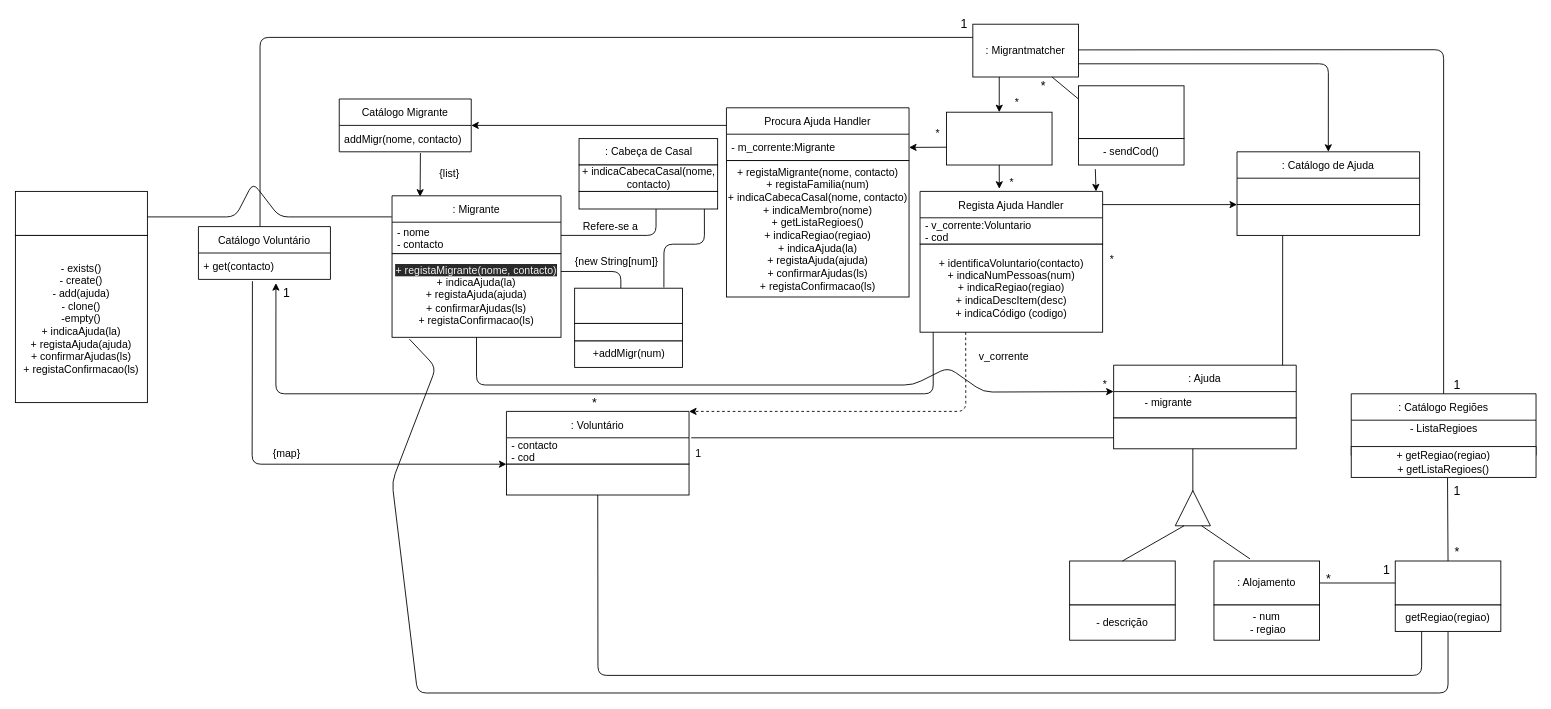
This 1551x709 diagram has some shape labels left out. The shapes that lost their labels are listed below. From the top down, each one's centre as x and y in pixels, then its label:
At pixel 1131 112: ": SMS".
At pixel 999 138: "Catálogo Handler".
At pixel 81 213: ": Lista Ajudas Selecionadas".
At pixel 648 200: "getNomes()".
At pixel 1328 219: "+ createAlojamento(num) + createItem(num)".
At pixel 628 305: ": Família".
At pixel 628 332: "- num".
At pixel 1204 433: "+ setRegiao(regiao)".
At pixel 597 479: "- indicaCodigo(cod)".
At pixel 1122 582: ": Item".
At pixel 1447 582: ": Região".
